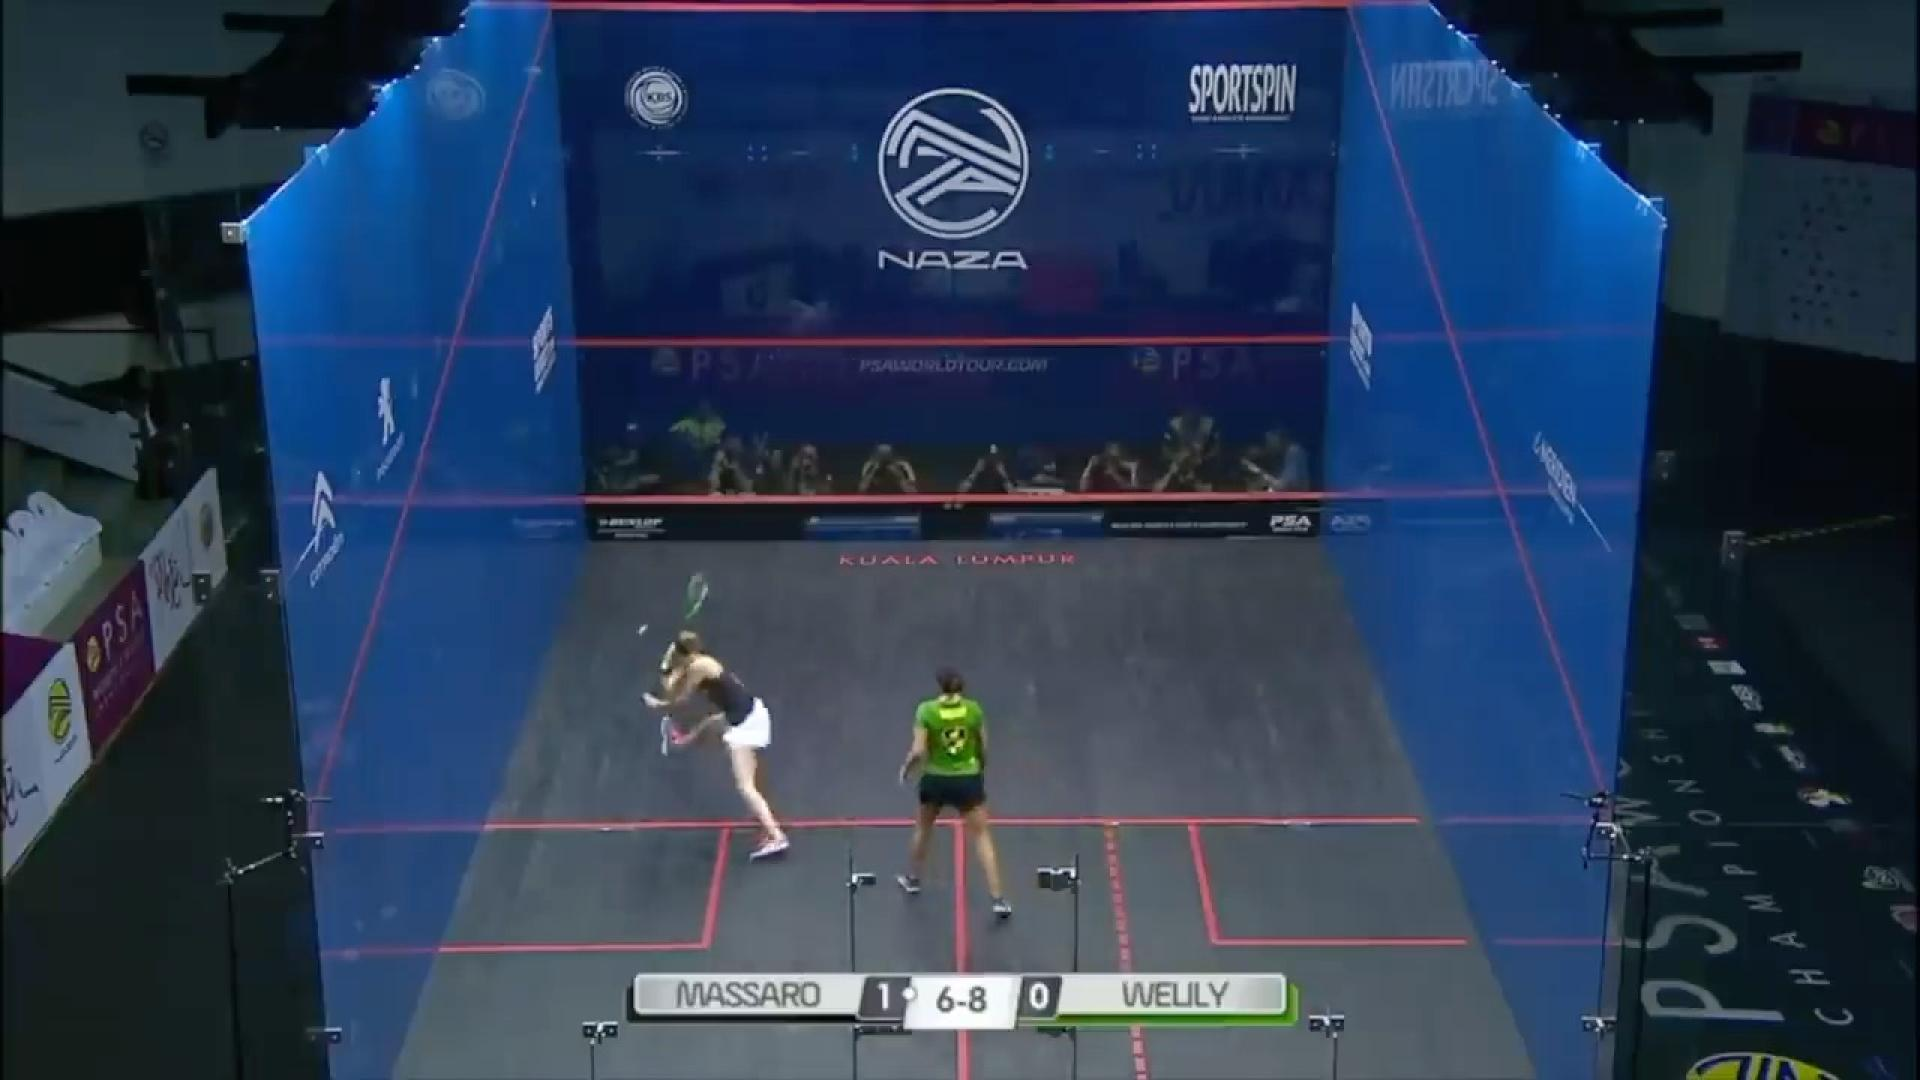Squash-Ball: (625, 609, 655, 642)
